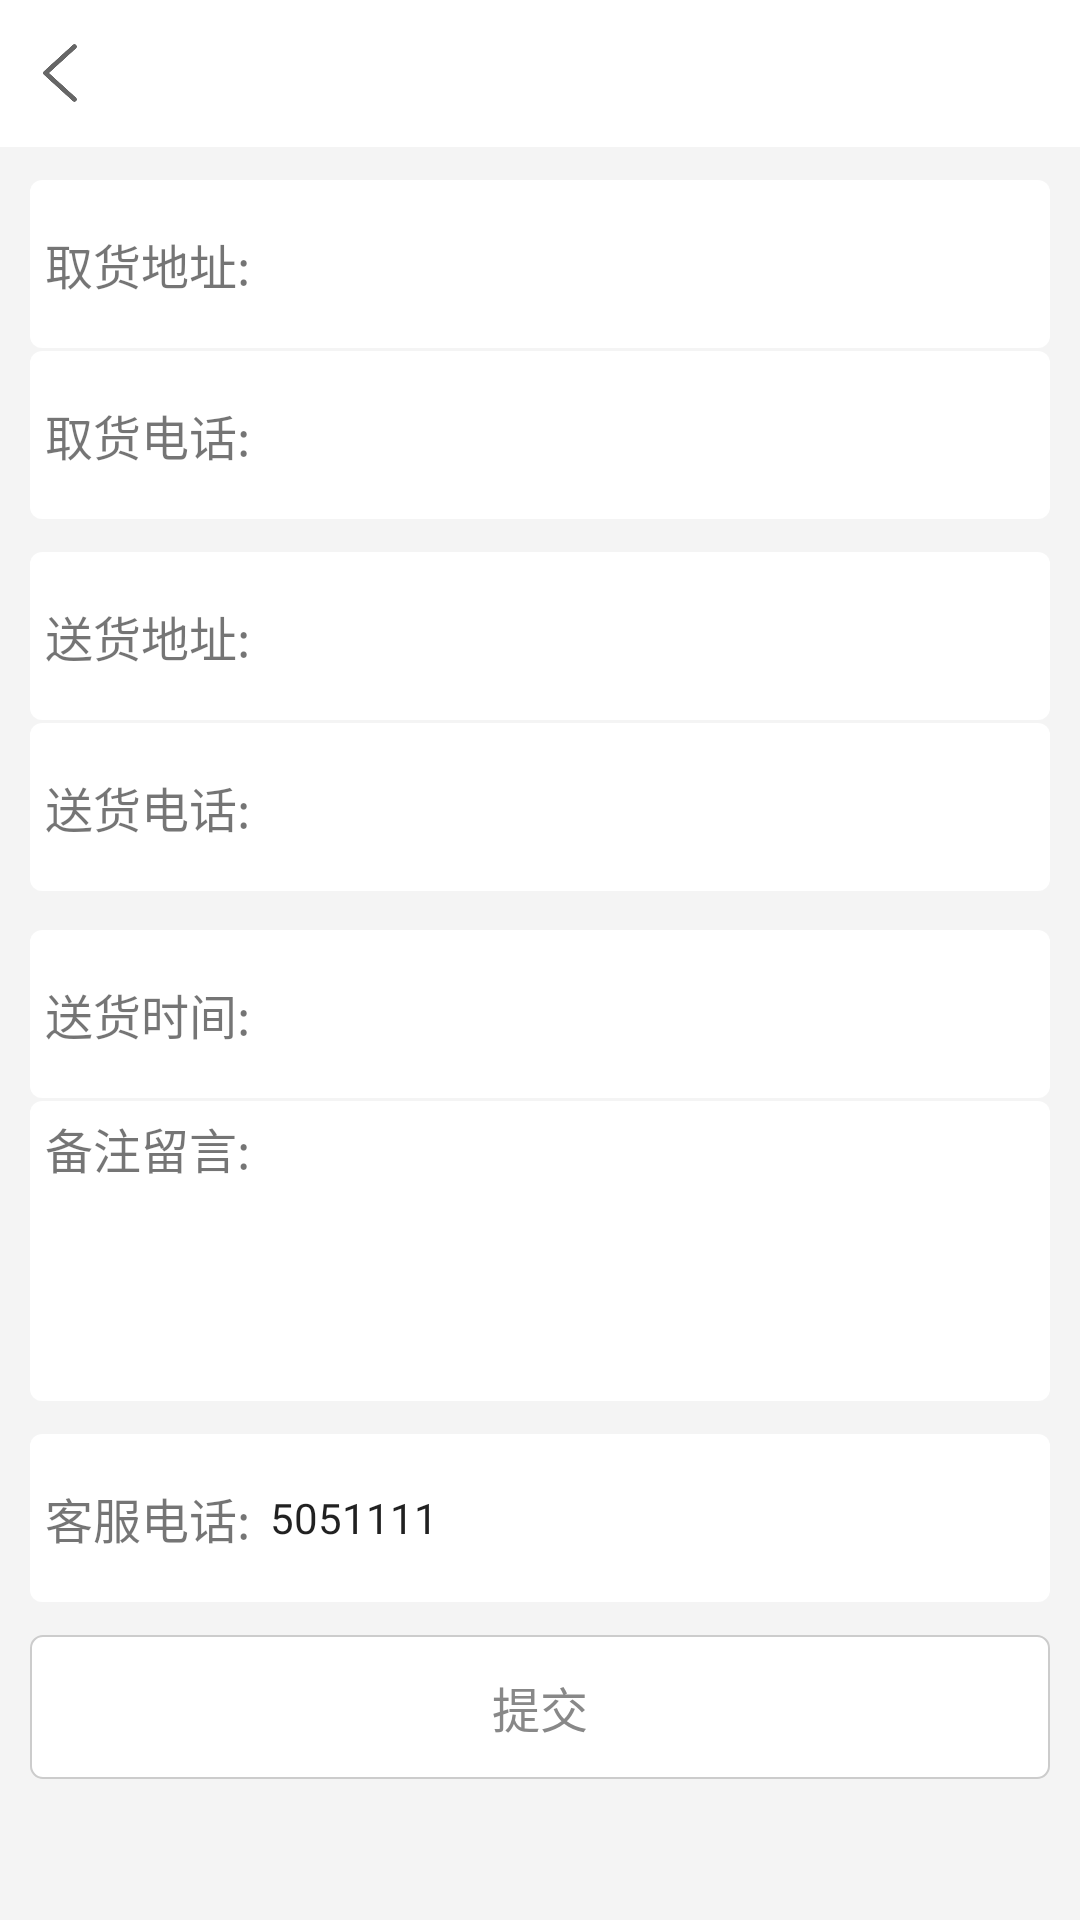

Screen size 1080 x 1920. Icon name, then its center in pixels as point (x, y):
back: point (60, 73)
